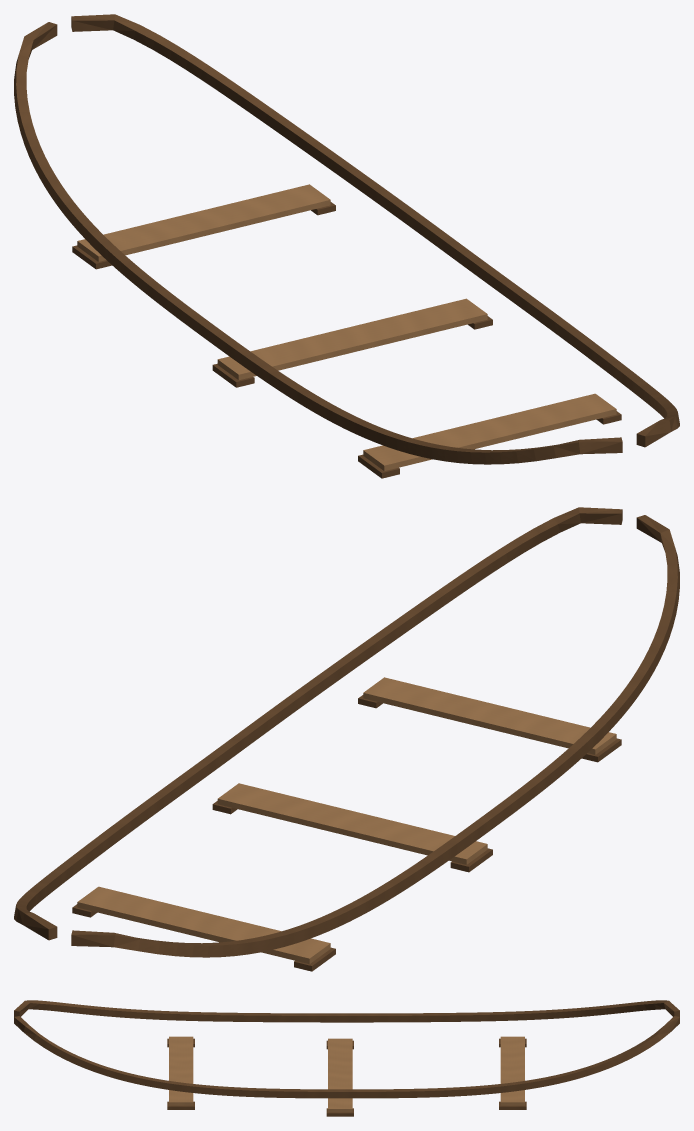
File: trim.glb
3 renders of one model, top to bottom at view 1: azimuth 30°, elevation 25°; view 2: azimuth 150°, elevation 25°; view 3: azimuth 270°, elevation 25°, orthographic. The views are drawn at different scales.
Visible parts, largest first — view 1: trim_gunwale_port, trim_gunwale_starboard, trim_seat_1, trim_seat_0, trim_seat_2; view 2: trim_gunwale_port, trim_gunwale_starboard, trim_seat_1, trim_seat_2, trim_seat_0; view 3: trim_gunwale_starboard, trim_gunwale_port, trim_seat_1, trim_seat_0, trim_seat_2.
Boxes of the visible parts, x1,y1,x2,y2 form: trim_gunwale_port: (14, 22, 622, 464); trim_gunwale_starboard: (71, 14, 679, 447); trim_seat_1: (217, 298, 487, 380); trim_seat_0: (77, 184, 330, 261); trim_seat_2: (363, 393, 616, 470); trim_gunwale_port: (71, 515, 679, 957); trim_gunwale_starboard: (14, 507, 622, 940); trim_seat_1: (217, 783, 487, 864); trim_seat_2: (363, 677, 616, 754); trim_seat_0: (77, 886, 330, 963); trim_gunwale_starboard: (14, 1016, 679, 1098); trim_gunwale_port: (14, 1000, 679, 1022); trim_seat_1: (328, 1038, 352, 1112); trim_seat_0: (500, 1036, 524, 1105); trim_seat_2: (169, 1036, 193, 1105).
Bounding box in the file's own units: 1.82 × 0.7236 × 6.52.
Materials: 2 (2 with a texture image).
